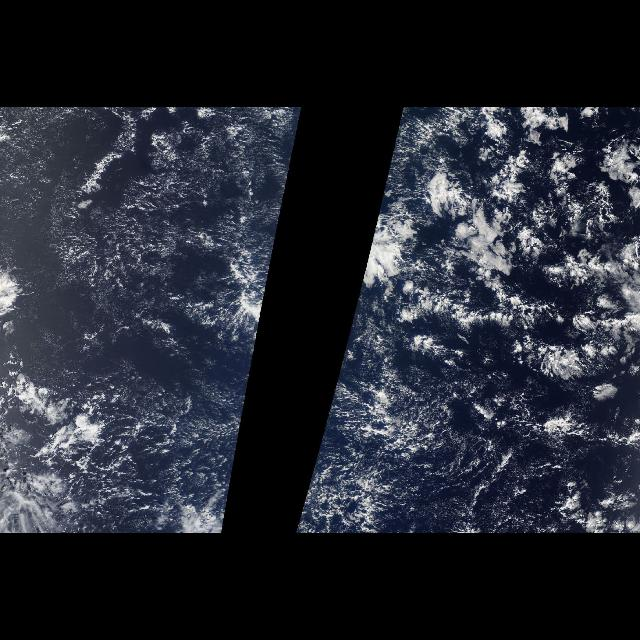Flower: (367, 109, 636, 433)
Gravel: (296, 399, 446, 533), (98, 399, 246, 533)
Sugar: (1, 108, 296, 392)
